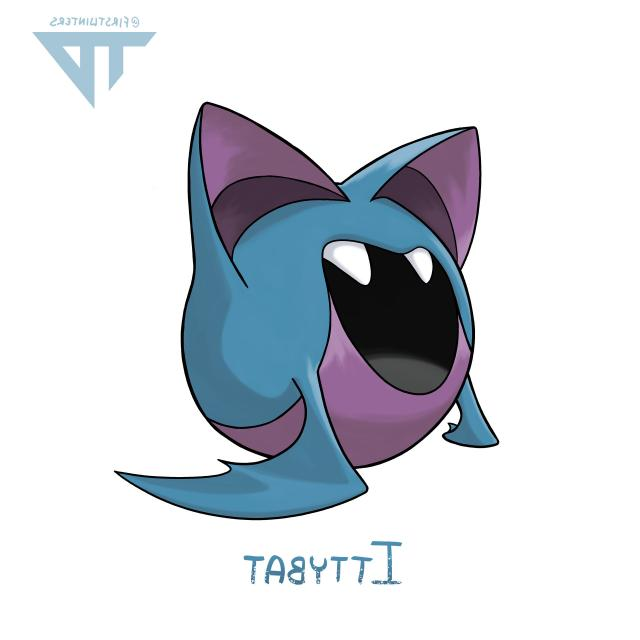Zubat: (174, 105, 500, 493)
